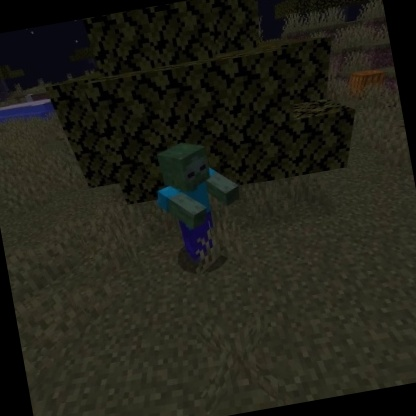zombie: (143, 131, 255, 276)
